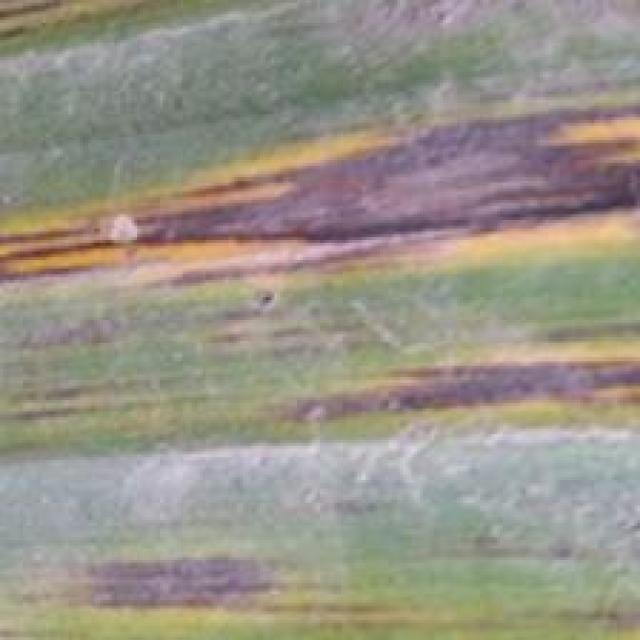Early_leaf_spot: (0, 94, 637, 309), (16, 328, 634, 445), (0, 530, 640, 640), (325, 2, 639, 74), (0, 0, 202, 82)
